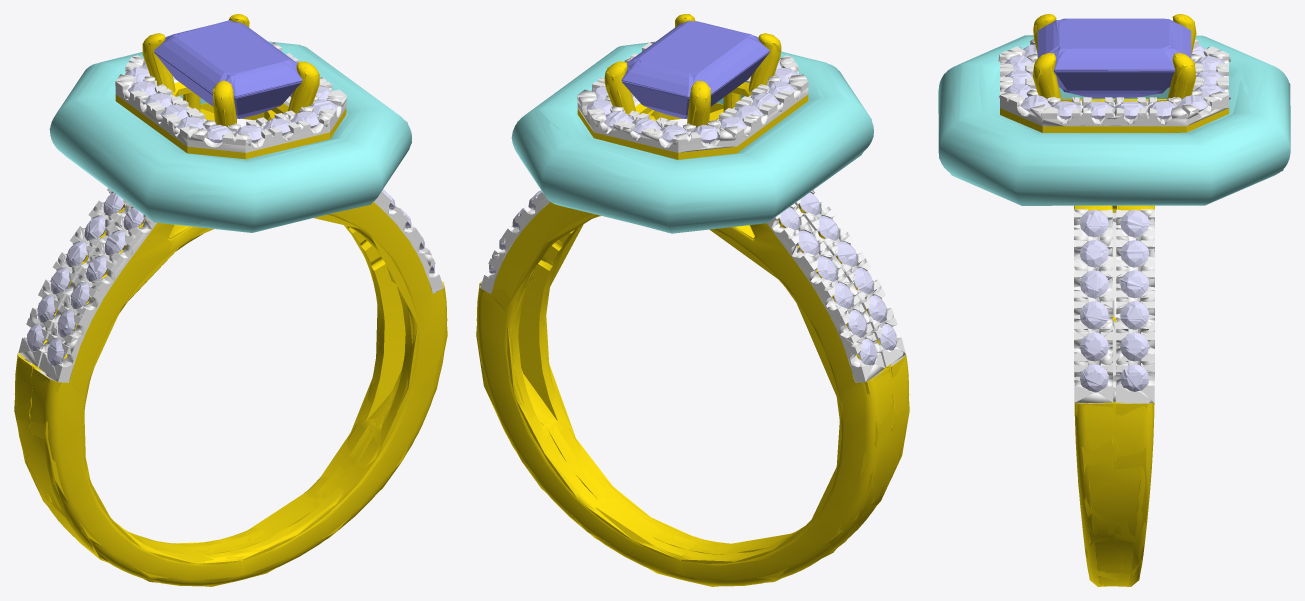
The model's file is DLR-D000677455_hub.glb.
The picture shows the model from 3 angles, left to right: view 1: azimuth 30°, elevation 25°; view 2: azimuth 150°, elevation 25°; view 3: azimuth 270°, elevation 25°; orthographic projection.
Visible parts, largest first — view 1: highPolyMesh, lowPolyMesh; view 2: highPolyMesh, lowPolyMesh; view 3: highPolyMesh, lowPolyMesh.
Boxes of the visible parts, x1=… form: highPolyMesh: x1=14, y1=14, x2=447, y2=586; lowPolyMesh: x1=14, y1=14, x2=447, y2=586; highPolyMesh: x1=476, y1=14, x2=909, y2=586; lowPolyMesh: x1=476, y1=14, x2=909, y2=586; highPolyMesh: x1=938, y1=14, x2=1290, y2=586; lowPolyMesh: x1=938, y1=14, x2=1290, y2=586.
Bounding box in the file's own units: 0.0215 × 0.0269 × 0.0162.
